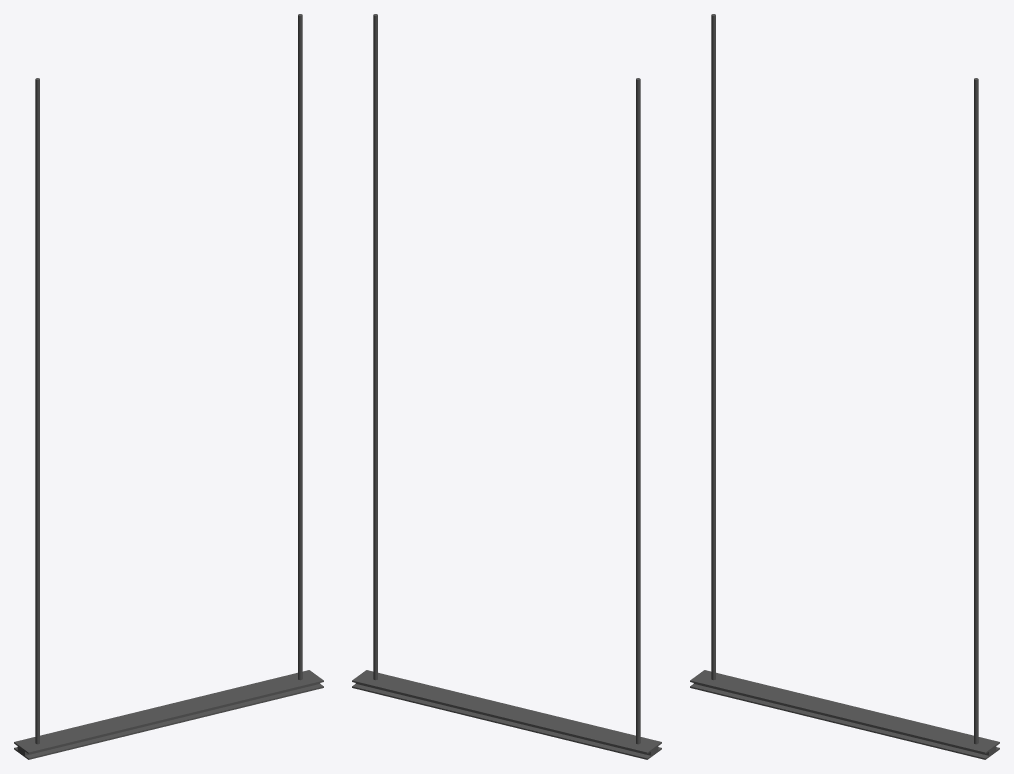
File: turiyuka.fbx
3 renders of one model, left to right at view 1: azimuth 30°, elevation 25°; view 2: azimuth 150°, elevation 25°; view 3: azimuth 330°, elevation 25°, orthographic.
Parts seen in each view (by area): view 1: pCylinder1, pCube3; view 2: pCylinder1, pCube3; view 3: pCylinder1, pCube3.
Part boxes in pixels (x1,y1,x2,y2): pCylinder1: (35,14,302,744); pCube3: (14,670,323,759); pCylinder1: (373,14,640,744); pCube3: (352,670,661,759); pCylinder1: (711,14,978,744); pCube3: (690,670,999,759).
Size of the model in its own units: 5.1 by 11.08 by 0.4339.
Materials: 1 (1 with a texture image).
